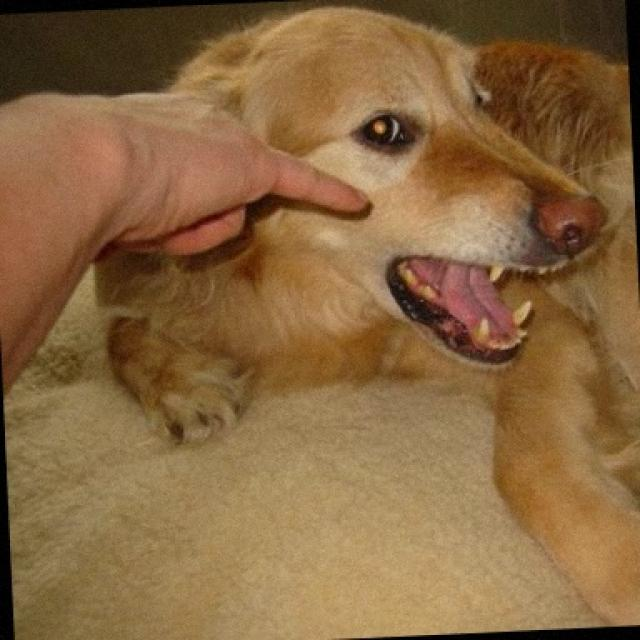angry: (73, 12, 640, 458)
